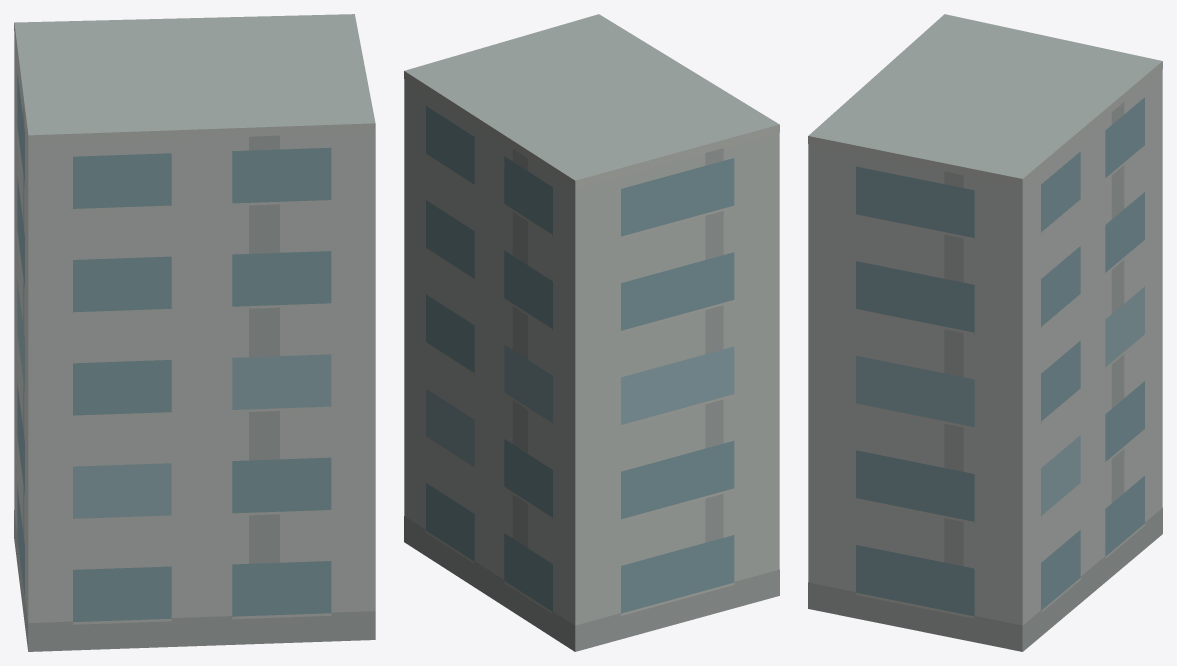
The model's file is survey-upis-32725440.glb.
The picture shows the model from 3 angles, left to right: view 1: azimuth 30°, elevation 25°; view 2: azimuth 150°, elevation 25°; view 3: azimuth 270°, elevation 25°; orthographic projection. The views are drawn at different scales.
Visible parts, largest first — view 1: survey-upis-32725440.tmp; view 2: survey-upis-32725440.tmp; view 3: survey-upis-32725440.tmp.
Boxes of the visible parts, <box> form: survey-upis-32725440.tmp: <box>14,14,375,651</box>; survey-upis-32725440.tmp: <box>404,14,779,651</box>; survey-upis-32725440.tmp: <box>808,14,1162,651</box>.
Bounding box in the file's own units: 10.55 × 14.1 × 9.59.
